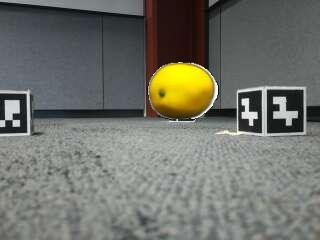lemon: (149, 64, 214, 118)
